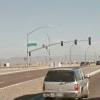Car: (42, 63, 91, 100)
